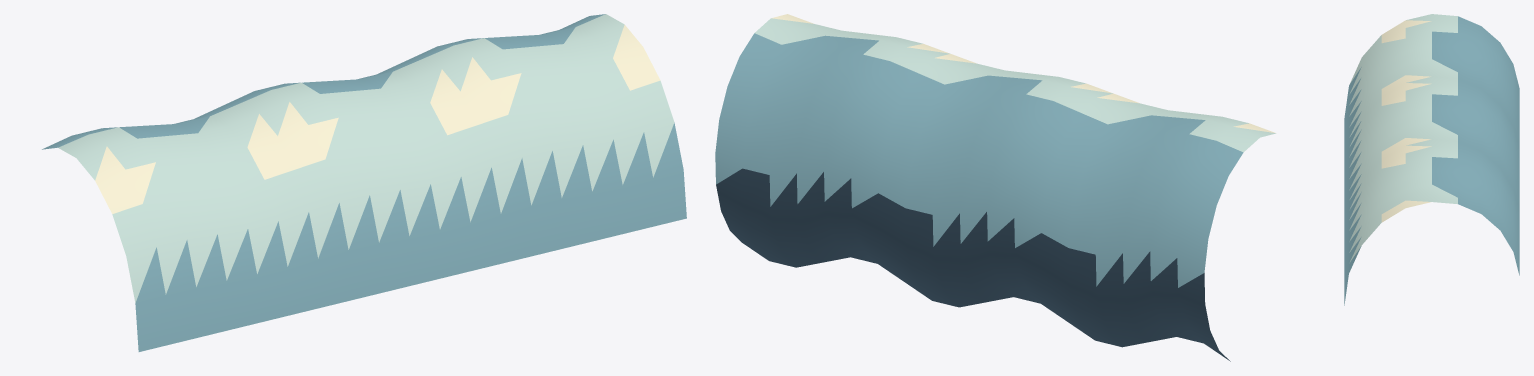
The model's file is water_curl.glb.
3 views of the same model, side by side, from view 1: azimuth 30°, elevation 25°; view 2: azimuth 150°, elevation 25°; view 3: azimuth 270°, elevation 25° (orthographic). The views are drawn at different scales.
Parts seen in each view (by area): view 1: water_curl; view 2: water_curl; view 3: water_curl.
Boxes of the visible parts, box(x1,y1,x2,y2) form: water_curl: box(42, 14, 686, 351); water_curl: box(715, 14, 1276, 361); water_curl: box(1344, 14, 1519, 305).
Bounding box in the file's own units: 3 × 1.28 × 1.18.
